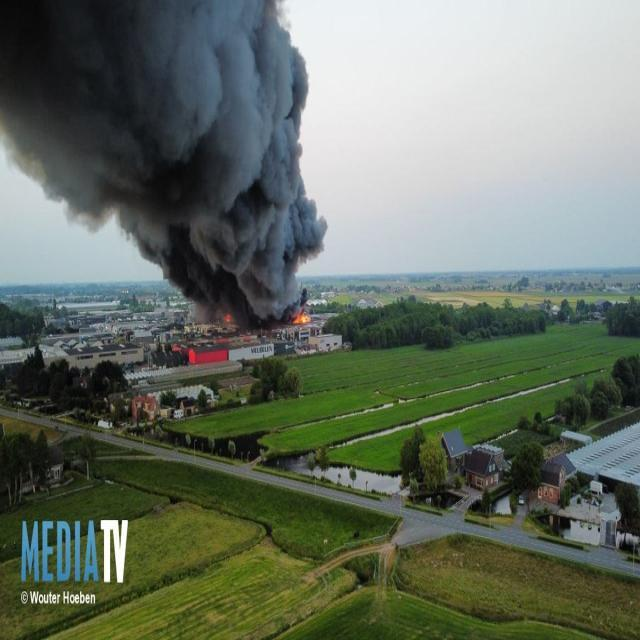Fire: (294, 316, 308, 323)
Smoke: (0, 0, 328, 335)
